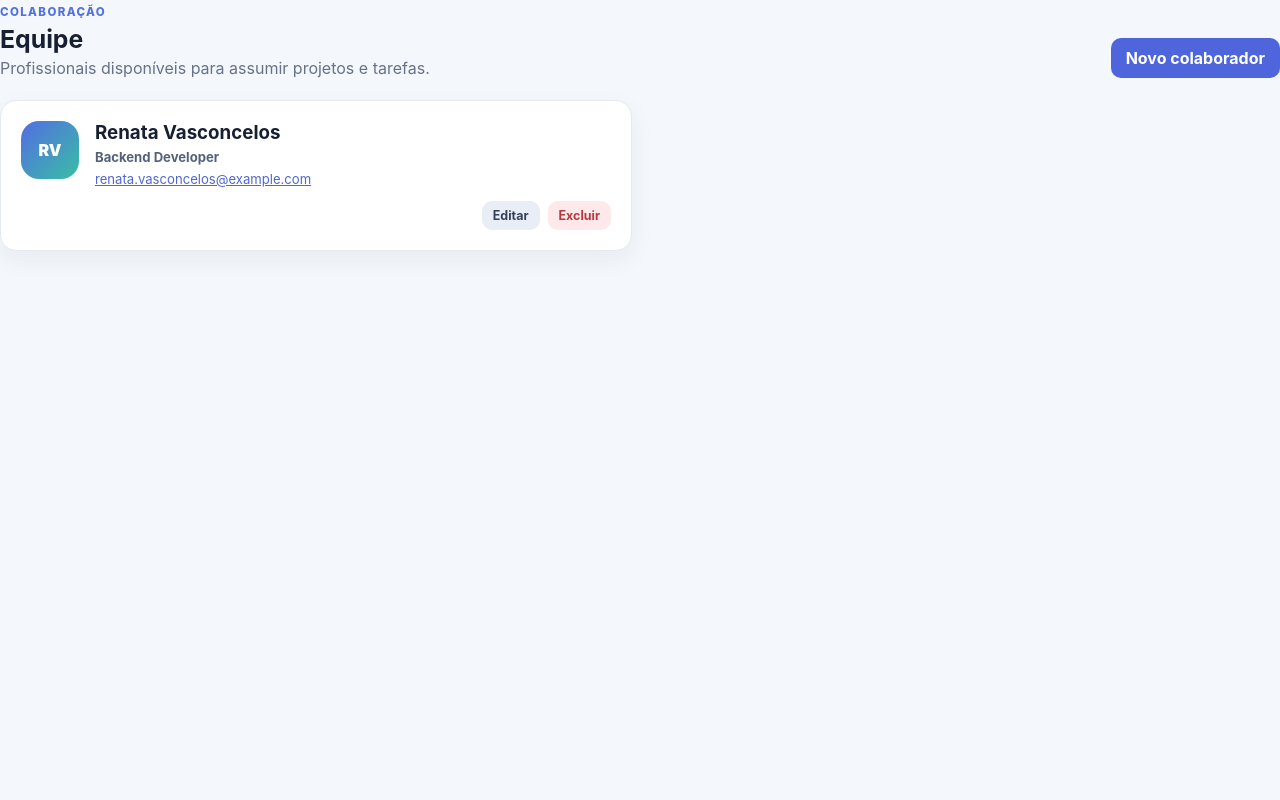
Test: TeamPage actions › reports the reason when the collaborator still has links
Click the button "Excluir" at point(579, 216), box [548, 201, 611, 230]
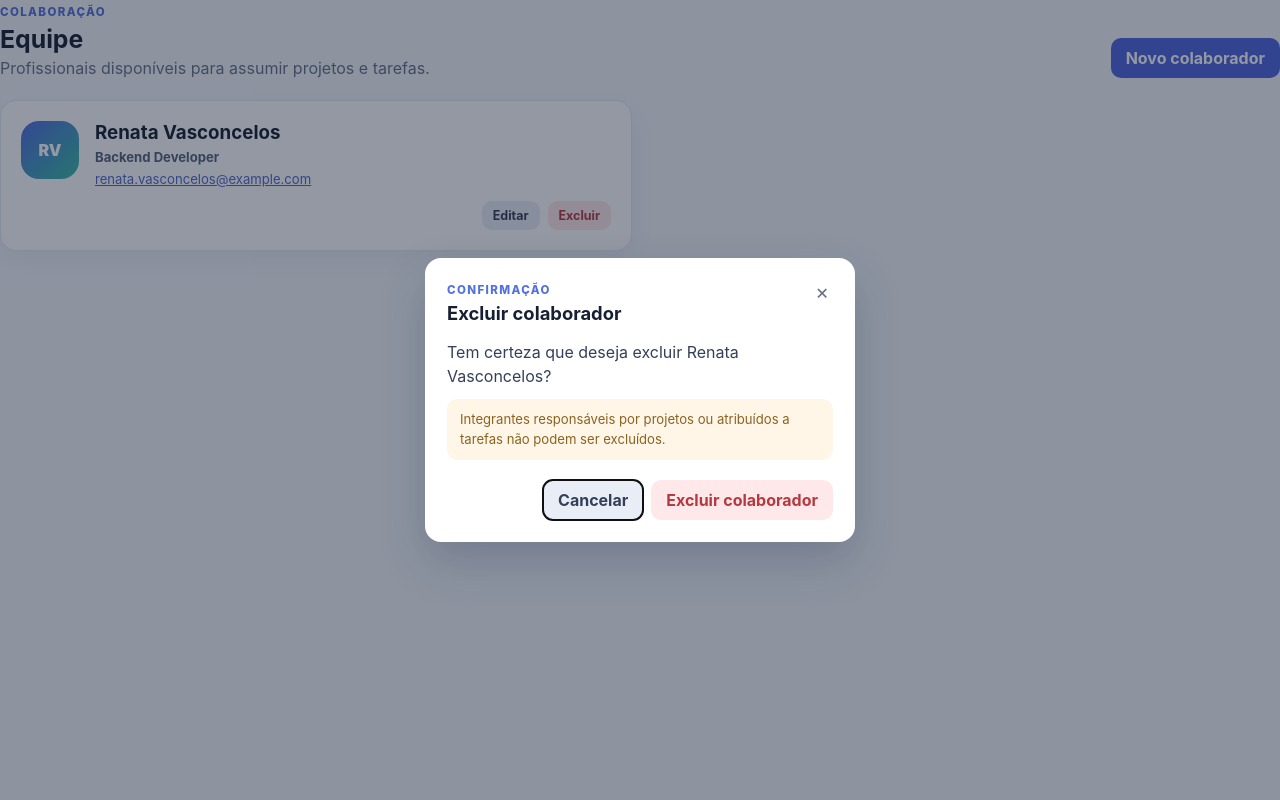
Click the button "Excluir colaborador" at point(742, 500), box [651, 480, 833, 520]
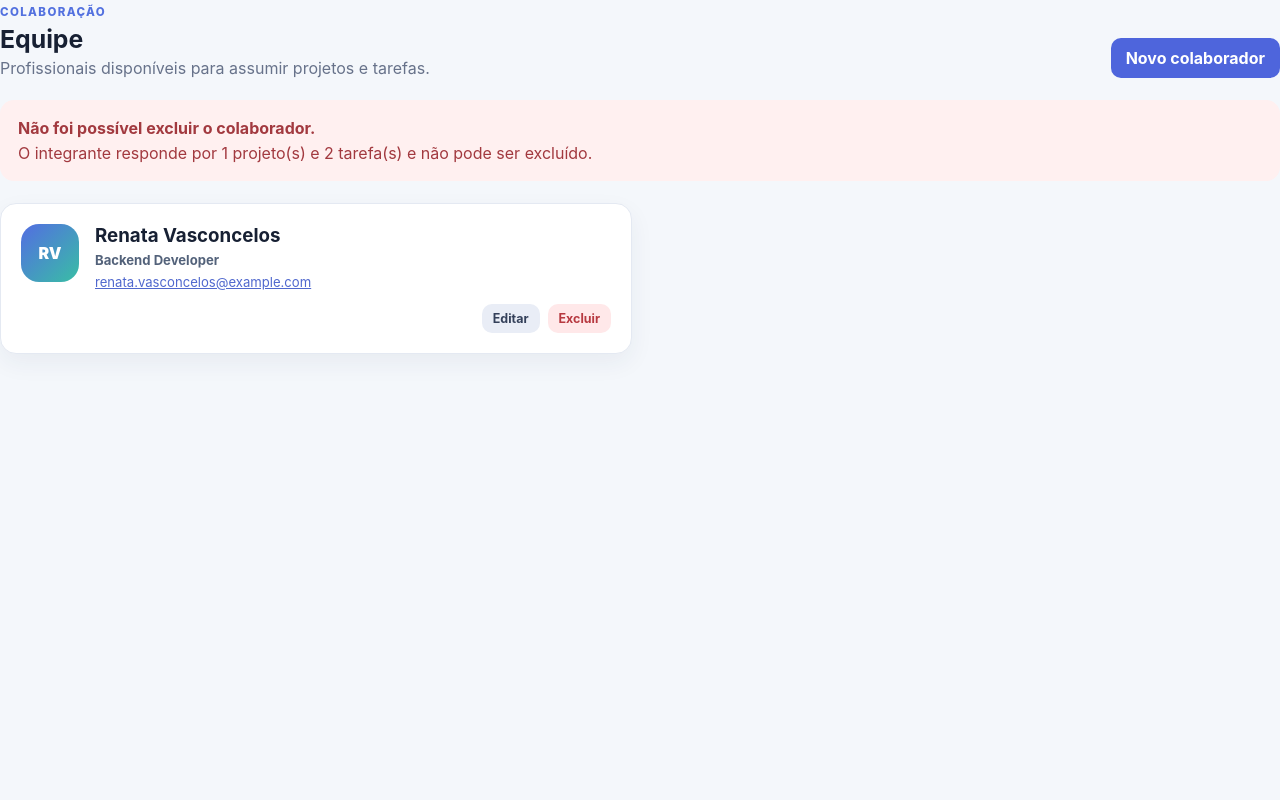
expect the heading "Renata Vasconcelos" is shown: met, box [95, 224, 280, 247]
expect the text "O integrante responde por 1 projeto(s) e 2 tarefa(s) e não pode ser excluído." is shown: met, box [18, 143, 592, 163]
